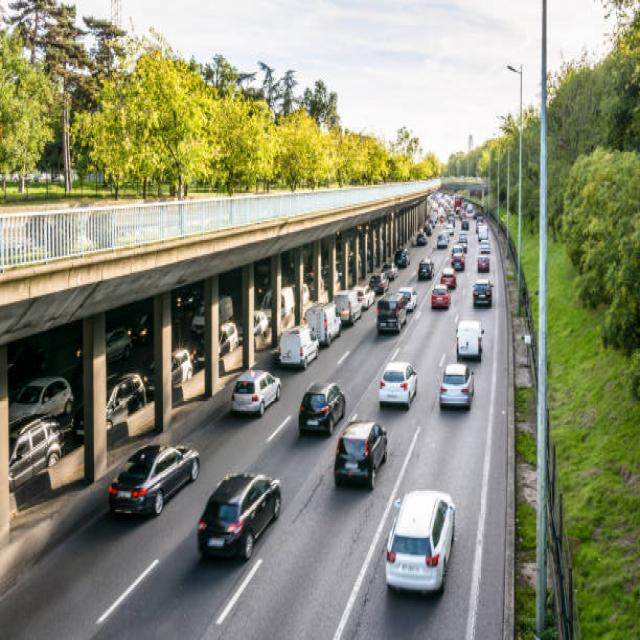Car: (384, 488, 455, 596), (197, 471, 281, 562), (106, 440, 200, 518), (332, 418, 387, 490), (298, 380, 345, 436), (230, 369, 281, 417), (378, 361, 417, 409), (438, 361, 474, 409)
